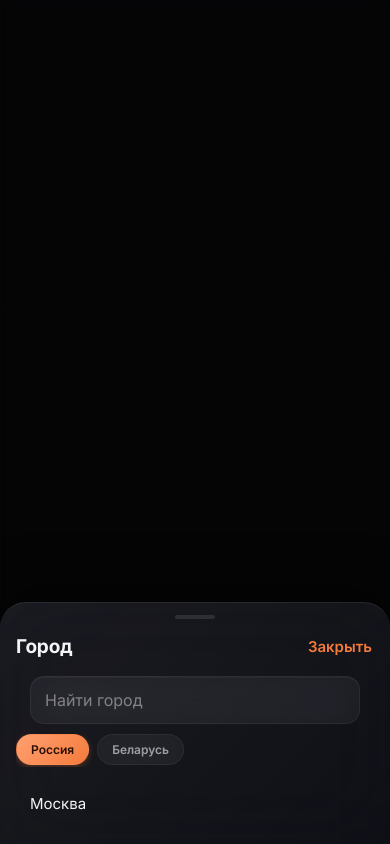
Test: CityPicker › поиск находит город вне витрины — иначе человек из Твери не укажет свой город
Expected: the button "Москва" is shown, x1=16 y1=781 x2=374 y2=826
In the search field labelled "Найти город": [195, 700] box x1=30 y1=676 x2=360 y2=724, type "твер"
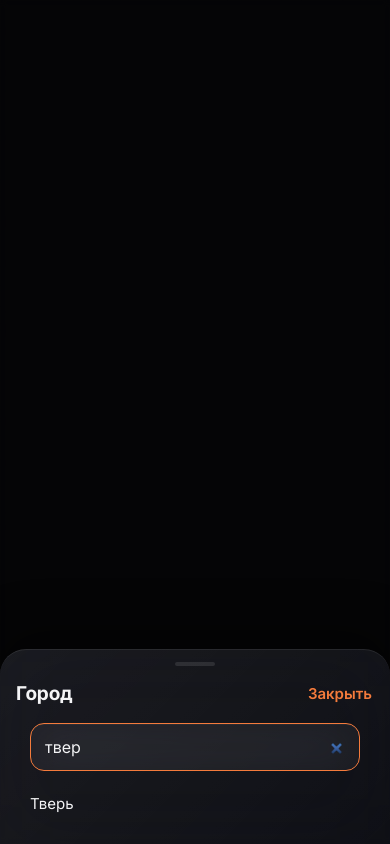
Result: the button "Тверь" is shown at x1=16 y1=781 x2=374 y2=826
